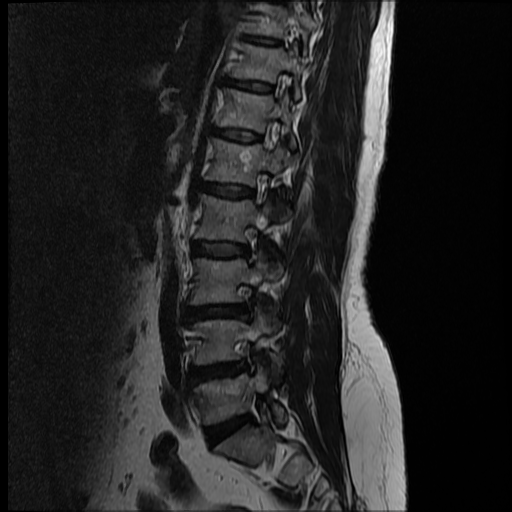RFS0: (227, 216, 270, 272), (239, 159, 278, 214)
RFS1: (224, 332, 265, 385)
RFS2: (225, 274, 266, 329)
